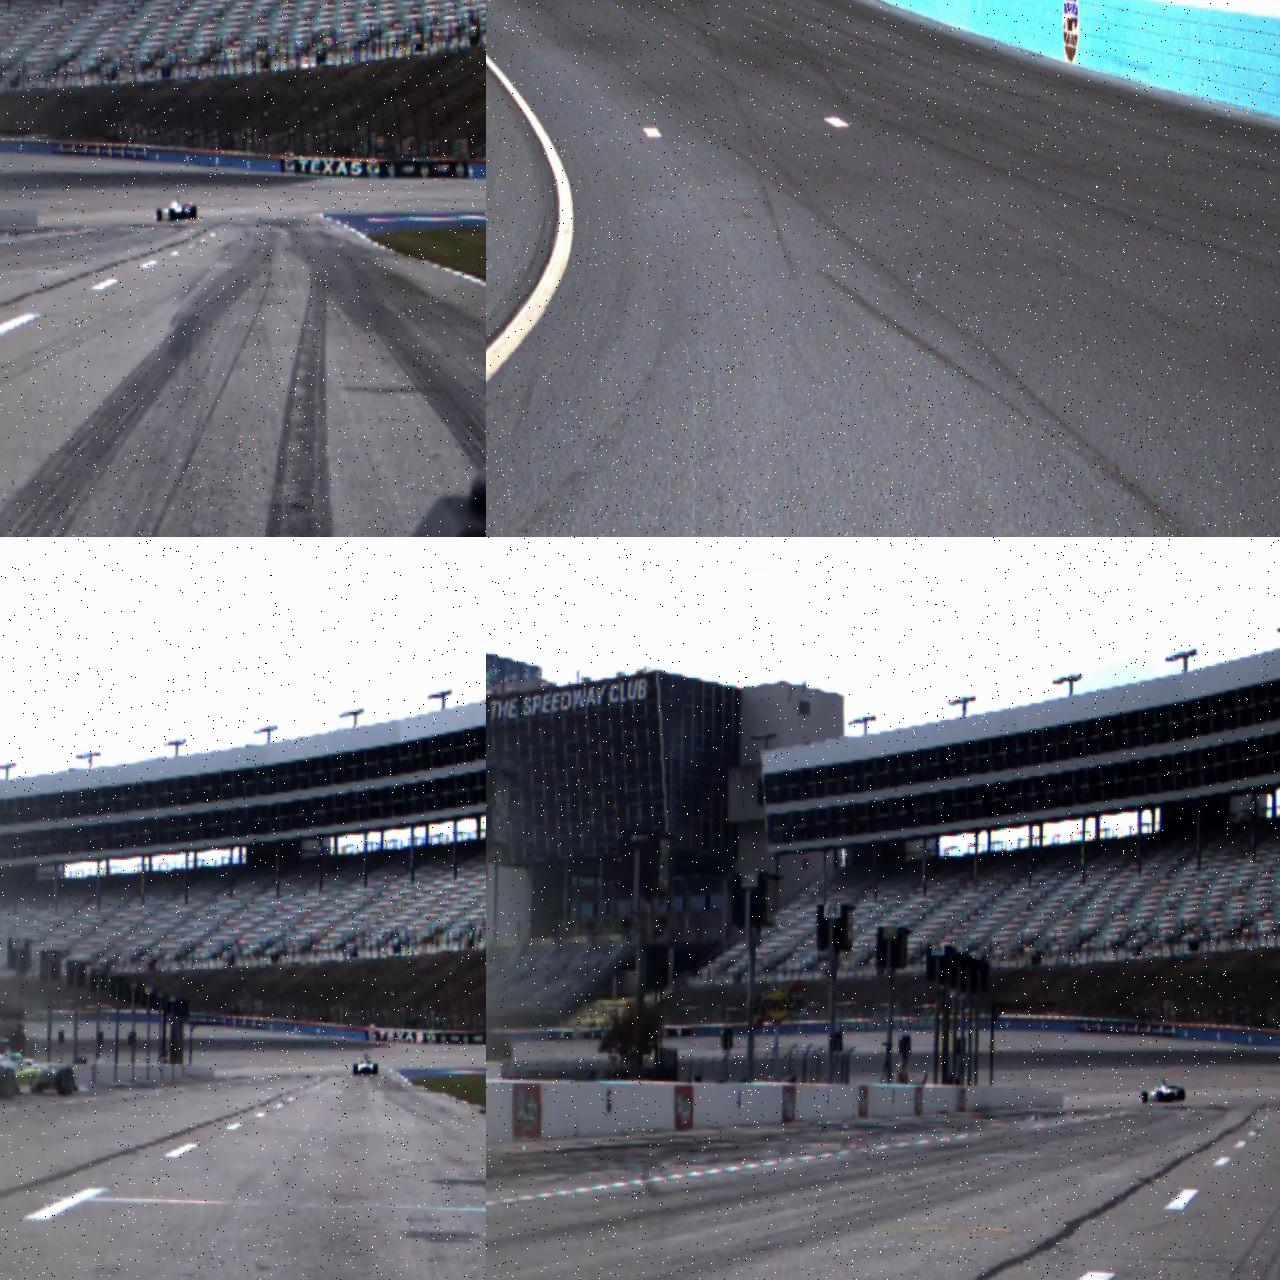AV: (1138, 1077, 1185, 1105), (155, 195, 197, 222), (353, 1053, 379, 1074)
Wheel: (54, 1065, 75, 1096), (0, 1067, 16, 1099), (1177, 1088, 1185, 1101), (1141, 1089, 1148, 1103), (190, 205, 196, 219), (1157, 1090, 1163, 1103), (157, 207, 162, 222), (170, 207, 175, 222), (373, 1063, 377, 1074), (353, 1063, 358, 1074)
